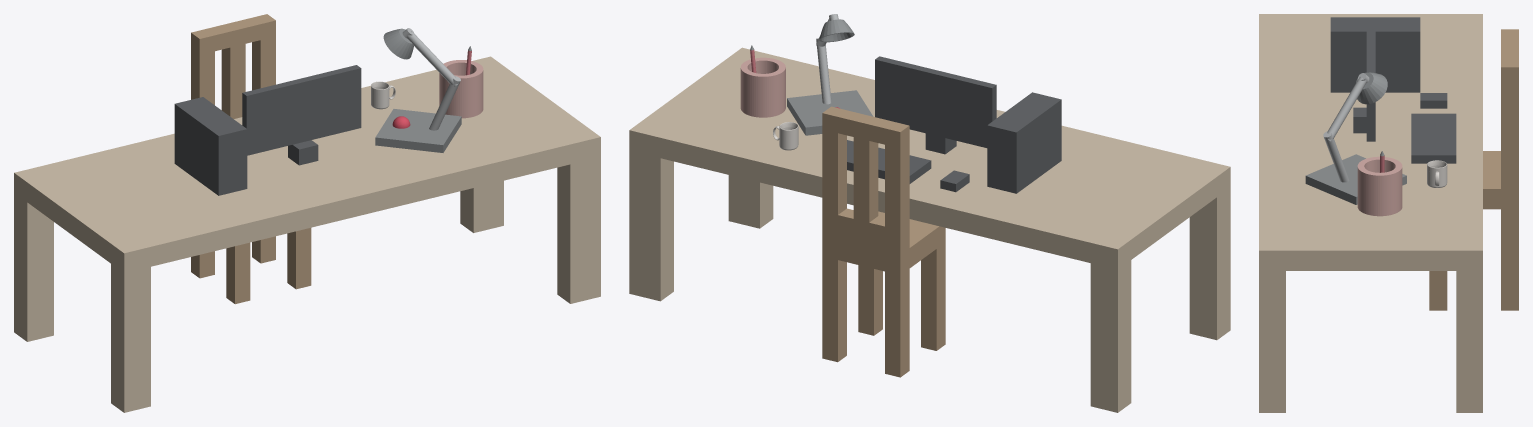
Rendered from Table.glb.
3 renders of one model, left to right at view 1: azimuth 30°, elevation 25°; view 2: azimuth 150°, elevation 25°; view 3: azimuth 270°, elevation 25°, orthographic. The views are drawn at different scales.
Parts seen in each view (by area): view 1: Mesh_Mesh_head_geo.001_lambert2SG.001; view 2: Mesh_Mesh_head_geo.001_lambert2SG.001; view 3: Mesh_Mesh_head_geo.001_lambert2SG.001.
Boxes of the visible parts, box(x1,y1,x2,y2) form: Mesh_Mesh_head_geo.001_lambert2SG.001: box(14, 14, 600, 412); Mesh_Mesh_head_geo.001_lambert2SG.001: box(629, 14, 1230, 412); Mesh_Mesh_head_geo.001_lambert2SG.001: box(1259, 14, 1518, 412).
Bounding box in the file's own units: 125 × 66.36 × 58.
